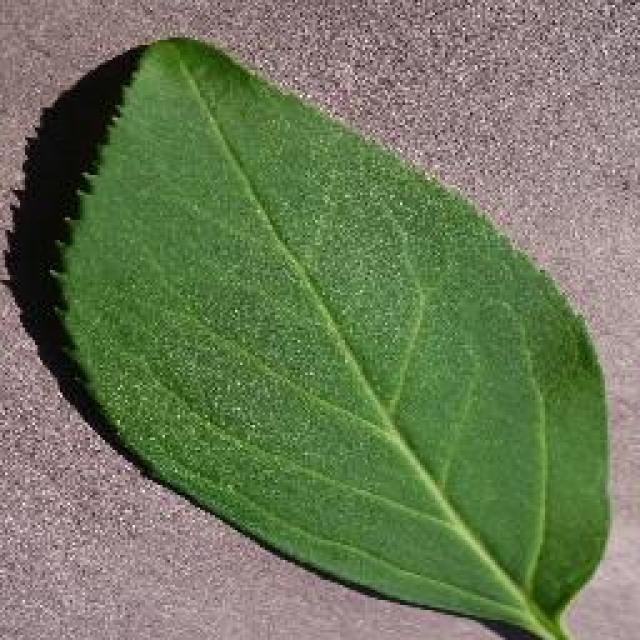Cherry___healthy: (38, 20, 622, 640)
